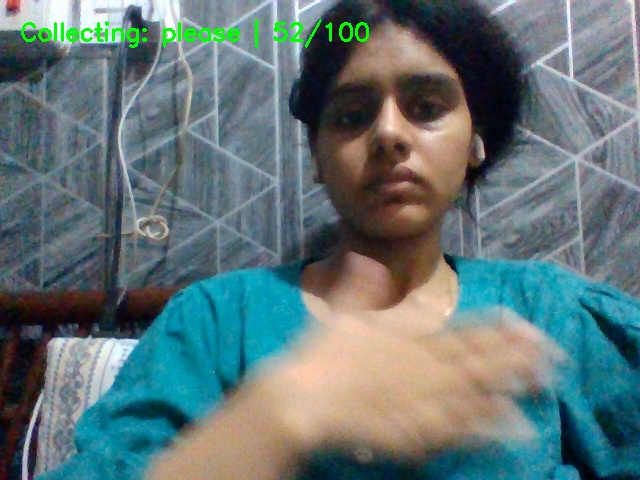please: (257, 246, 545, 459)
